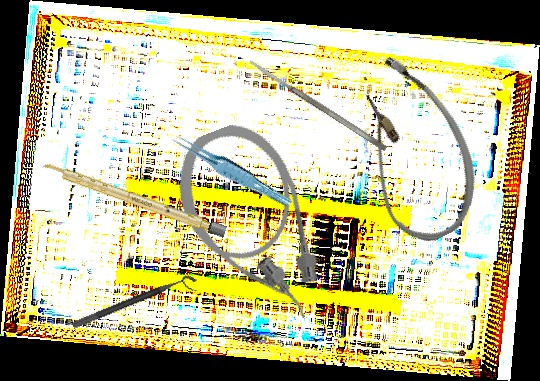Cannula: (161, 111, 341, 344), (324, 43, 501, 255)
Fixation Ring: (71, 271, 201, 340)
Scalpel Handle: (40, 160, 228, 238)
Spatula Surgical: (247, 57, 389, 153)
Tissue Forceps: (169, 123, 293, 217)
